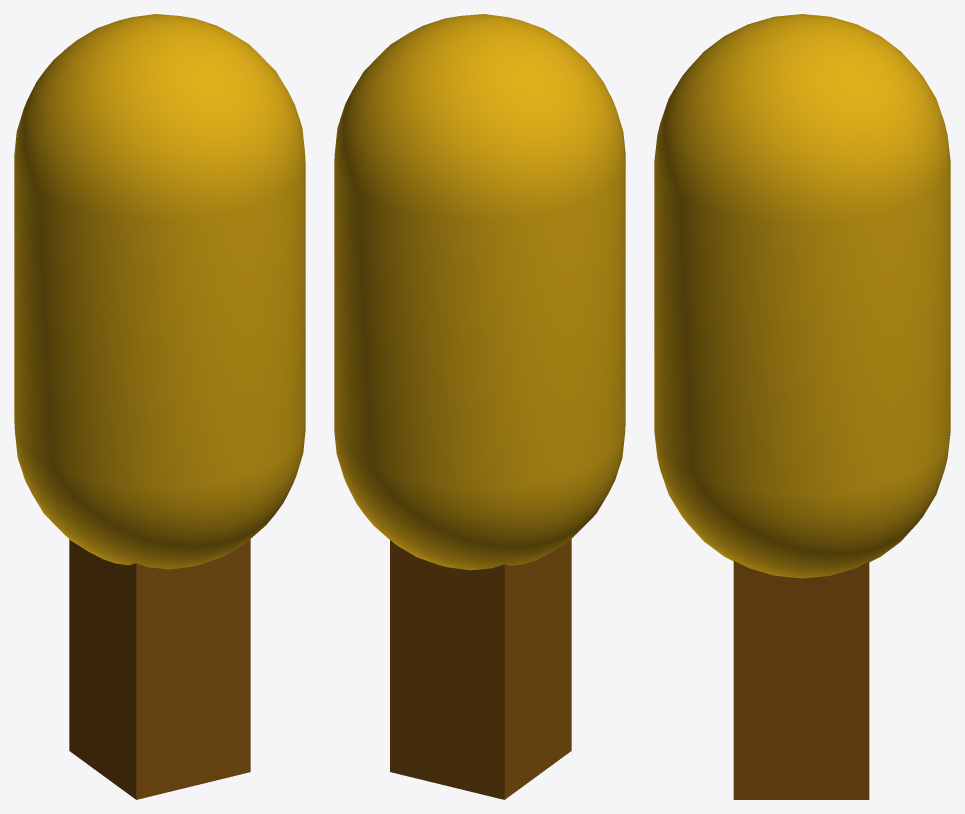
Rendered from yellow_tree.fbx.
The picture shows the model from 3 angles, left to right: view 1: azimuth 30°, elevation 25°; view 2: azimuth 150°, elevation 25°; view 3: azimuth 270°, elevation 25°; orthographic projection.
Visible parts, largest first — view 1: Yellow tree; view 2: Yellow tree; view 3: Yellow tree.
Part boxes in pixels (x1,y1,x2,y2): Yellow tree: (14, 14, 305, 799); Yellow tree: (334, 14, 625, 799); Yellow tree: (654, 14, 950, 799).
Size of the model in its own units: 6170 by 17086 by 6170.
2 materials, 2 textured.
